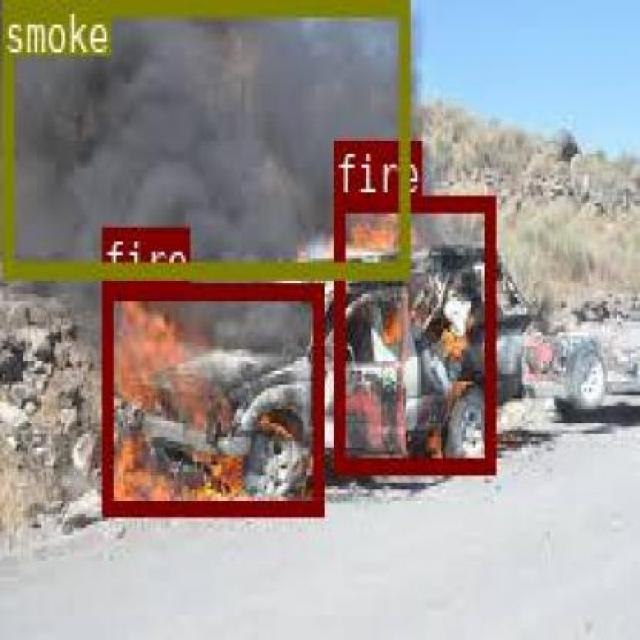Fire: (101, 283, 322, 512), (333, 193, 493, 472)
Smoke: (0, 0, 407, 275)
